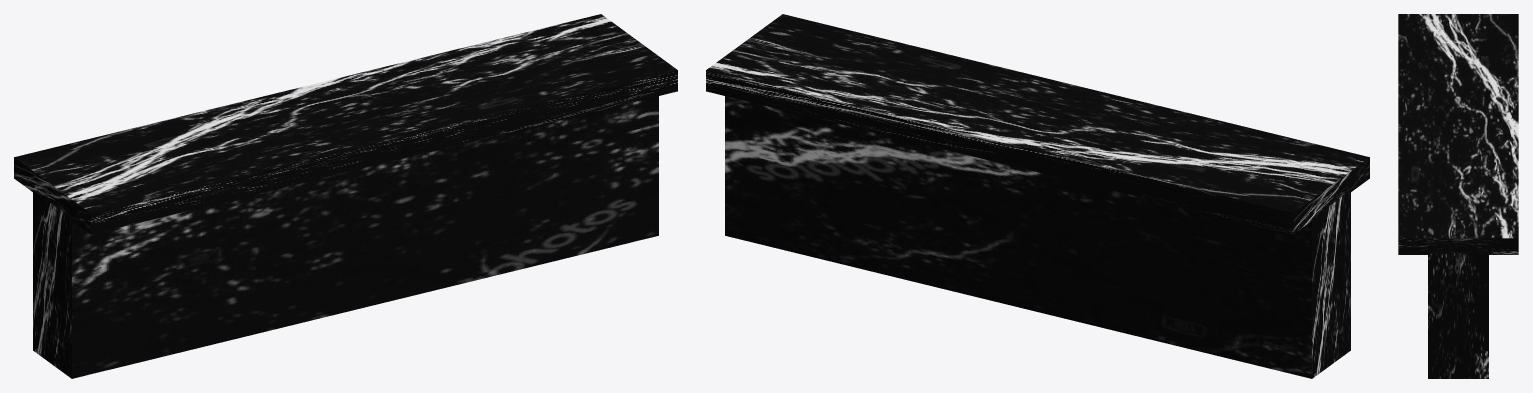
The model's file is barra.obj.
3 views of the same model, side by side, from view 1: azimuth 30°, elevation 25°; view 2: azimuth 150°, elevation 25°; view 3: azimuth 270°, elevation 25° (orthographic). The views are drawn at different scales.
Visible parts, largest first — view 1: barra_barra:lambert68SG, barra_lambert3SG; view 2: barra_barra:lambert68SG, barra_lambert3SG; view 3: barra_lambert3SG, barra_barra:lambert68SG.
Part boxes in pixels (<box>): barra_barra:lambert68SG: <box>33,96,658,378</box>; barra_lambert3SG: <box>14,14,677,234</box>; barra_barra:lambert68SG: <box>725,96,1350,378</box>; barra_lambert3SG: <box>706,14,1369,234</box>; barra_lambert3SG: <box>1398,14,1518,254</box>; barra_barra:lambert68SG: <box>1428,253,1488,378</box>.
Size of the model in its own units: 2.89 by 0.8443 by 0.654.
Materials: 2 (2 with a texture image).
